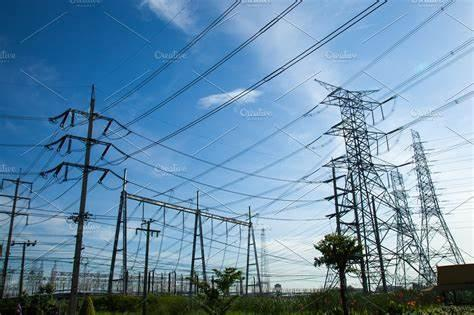power_tower: (308, 74, 398, 292), (406, 126, 466, 285)
